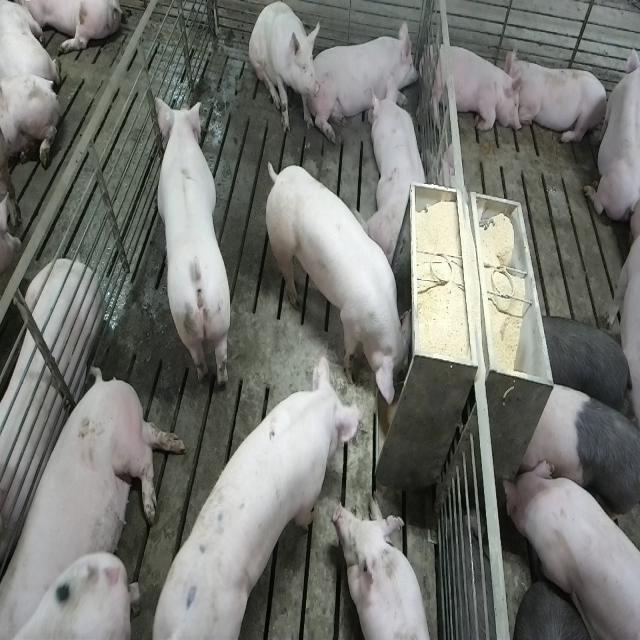Feeding: (271, 162, 418, 412)
Lateral_lying: (4, 362, 188, 638), (1, 259, 102, 575)
Sitting: (249, 2, 319, 136)
Standing: (147, 354, 368, 640), (502, 459, 638, 640), (151, 92, 231, 396), (516, 380, 638, 550), (540, 312, 634, 422)
Sternal_lying: (336, 498, 436, 640), (314, 18, 424, 138), (368, 80, 430, 262), (583, 37, 637, 225), (509, 52, 609, 148), (426, 38, 522, 138)
